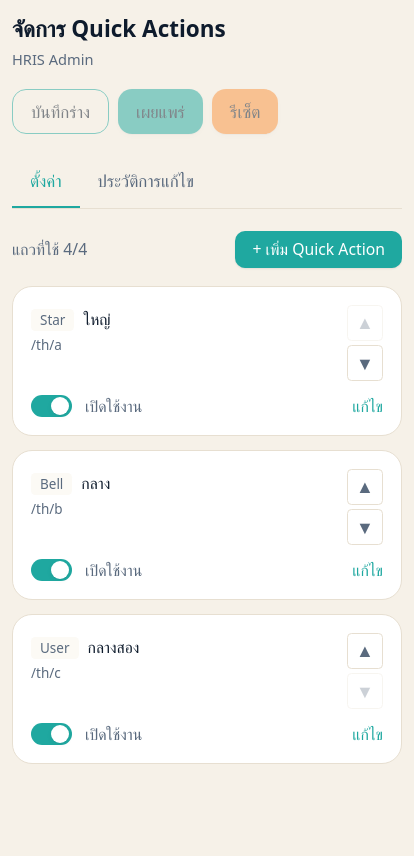
QuickActionsPage — STA-246 reorder cap guard › moving a tile past the 4-row cap reverts and shows the pumpkin hint (no red)
Step 1. Click the button named "เลื่อนลง" → click(365, 363), box [347,345,383,381]
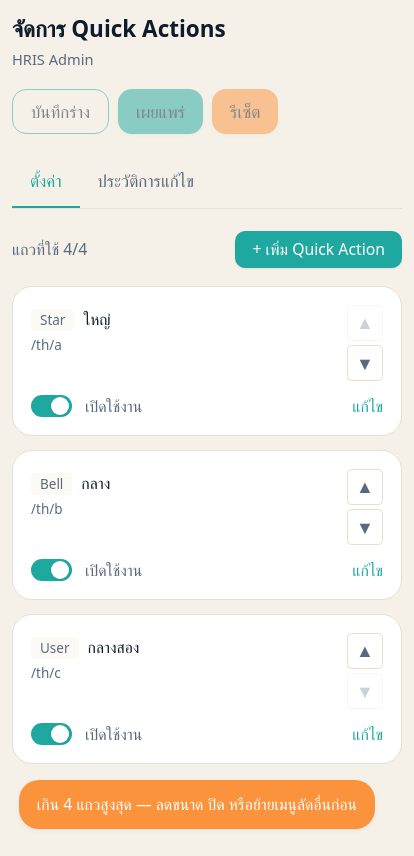
Expected: the message shows "เกิน 4 แถวสูงสุด", [37,793,357,815]
